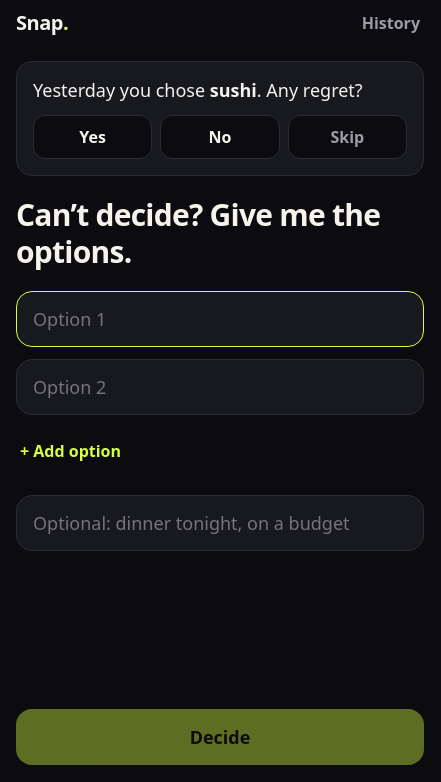
regret check › shows one card for a decision older than 20 hours and saves the answer
Expected: the element with test id "regret-card" reads "Yesterday you chose sushi. Any regret? Yes No Skip", [16,61,424,176]
Click the button "No" at (220, 137), box [160,115,280,159]
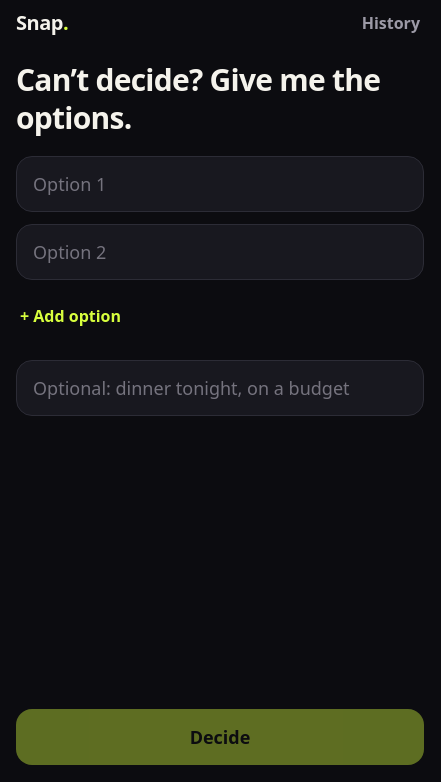
Expected: the element with test id "regret-card" is gone
